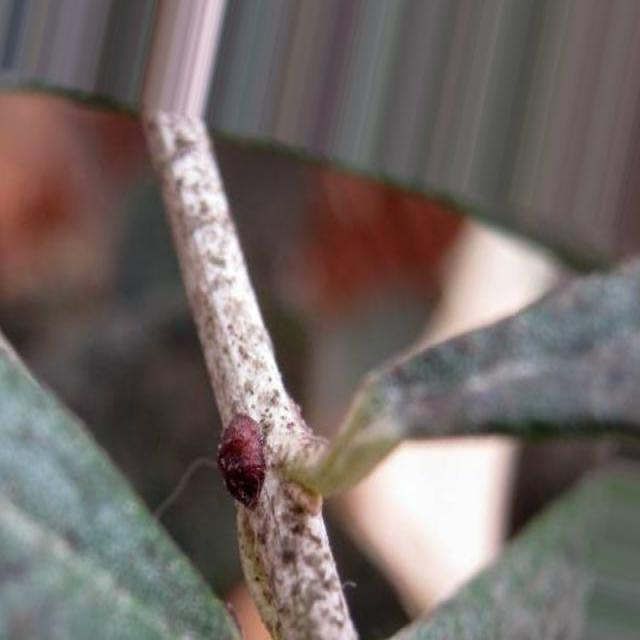Black Scale: (216, 413, 265, 508)
